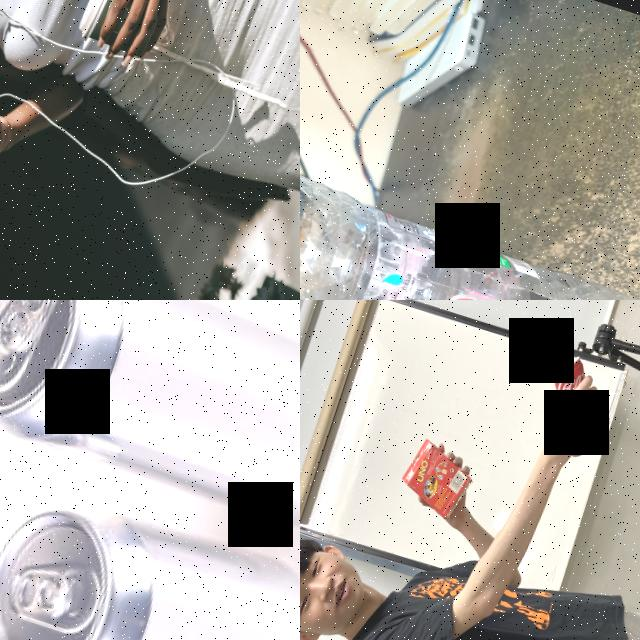bottle: (300, 121, 640, 300)
can: (0, 300, 300, 556), (0, 472, 300, 640), (529, 352, 620, 462)
cup: (74, 0, 177, 62)
